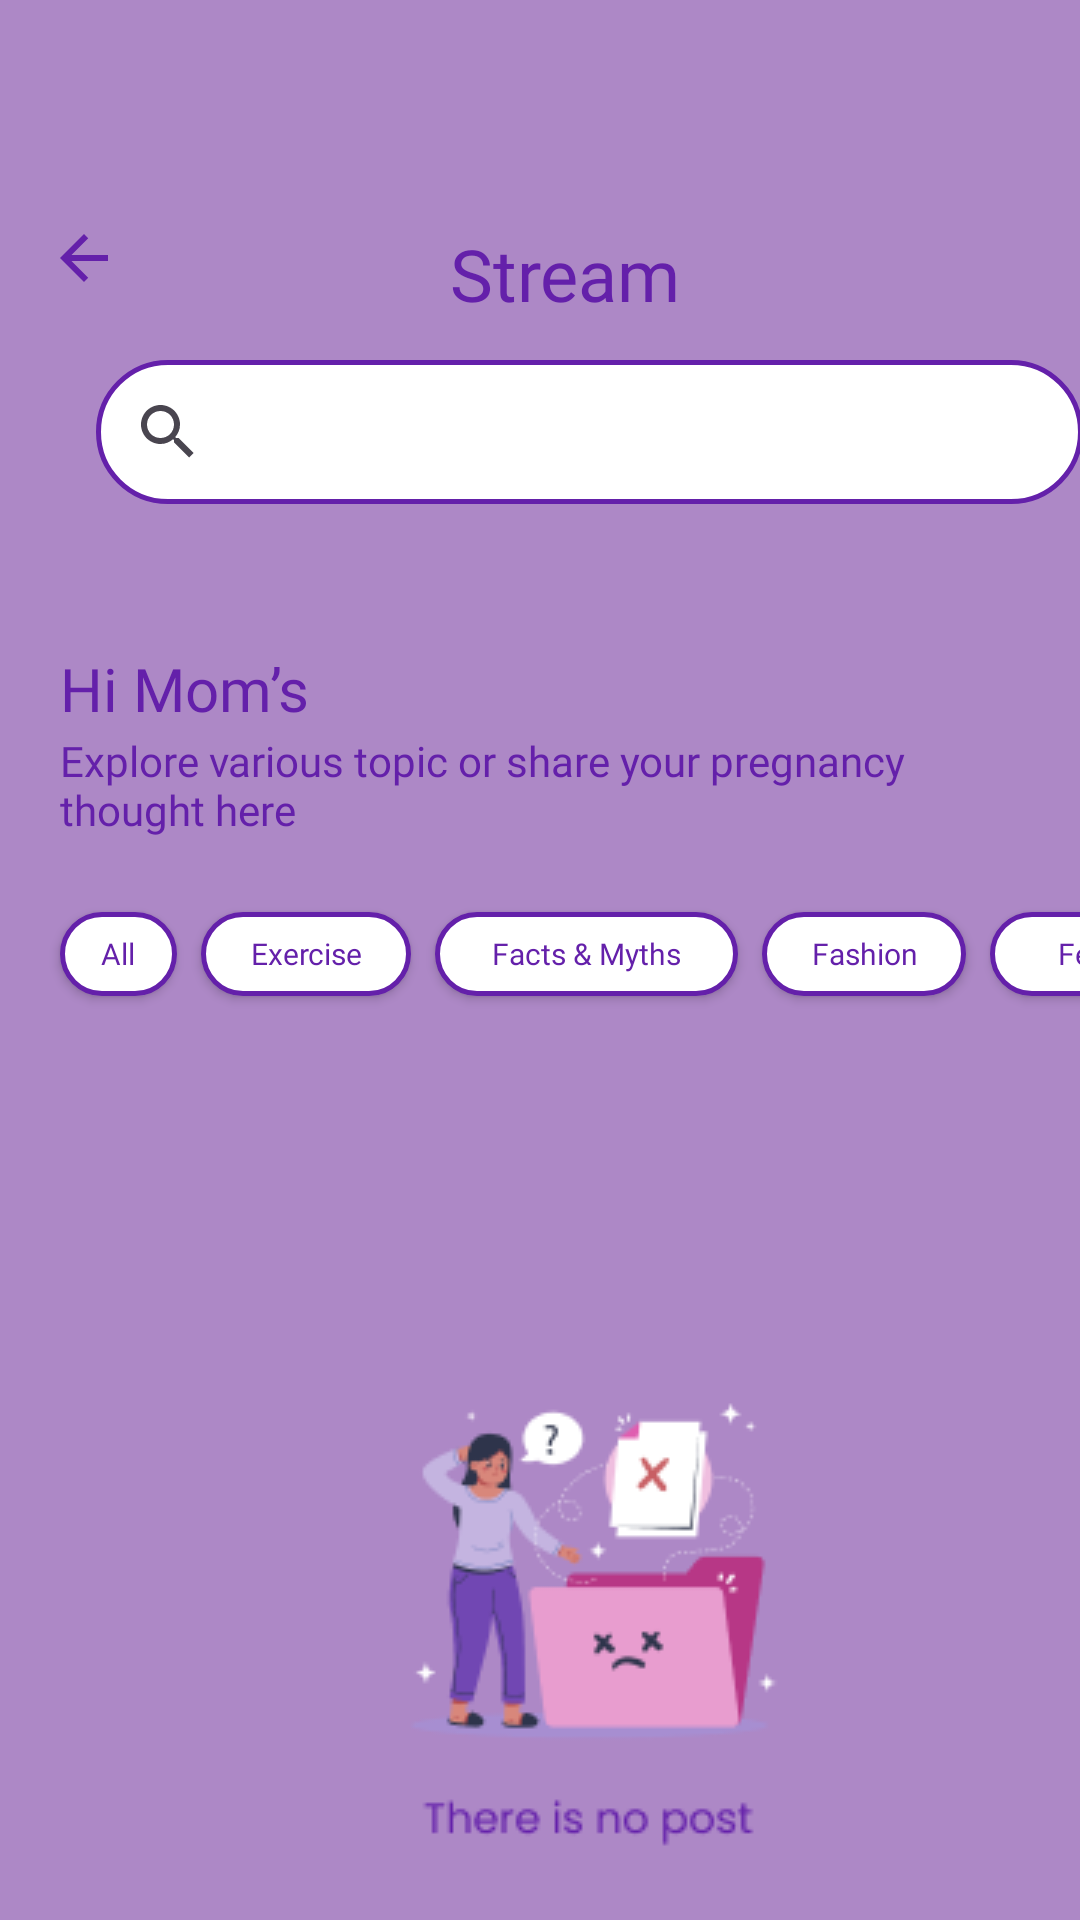

Named icons in this screenshot (1080x1920) and their bounding boxes, (x1, y1, x2, y2):
arrowback: (60, 234, 108, 282)
